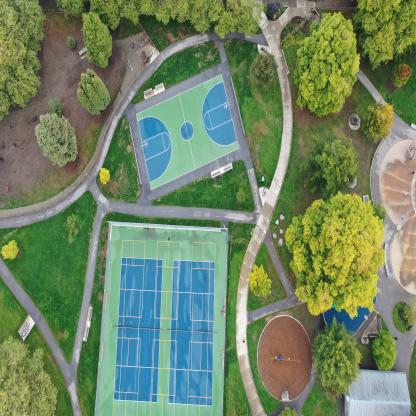Coniferous Tree: (313, 324, 362, 396), (306, 131, 358, 194), (35, 114, 83, 171), (78, 13, 119, 68), (72, 68, 114, 111)
Deciduous Tree: (284, 196, 382, 312), (294, 16, 360, 114), (368, 96, 394, 146), (248, 265, 274, 304), (0, 235, 19, 265), (99, 166, 110, 188)
